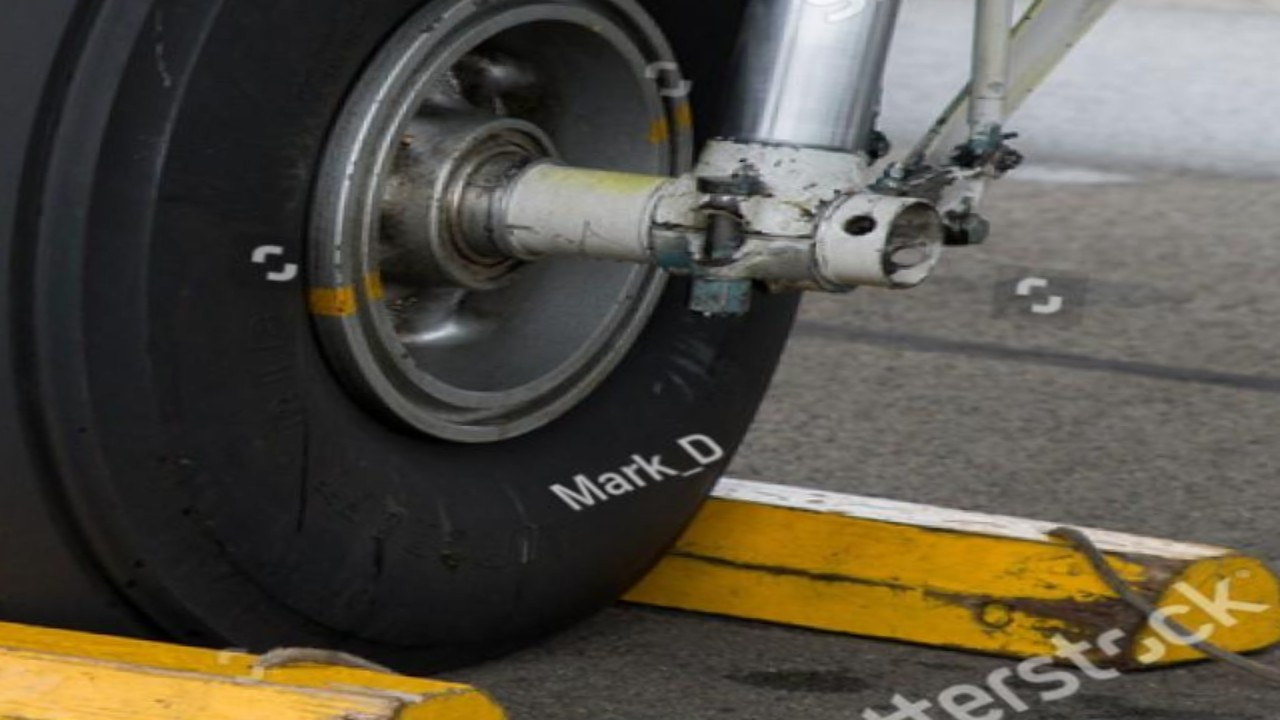chock: (142, 445, 1280, 681), (0, 484, 562, 720)
wheel: (0, 0, 785, 695)
